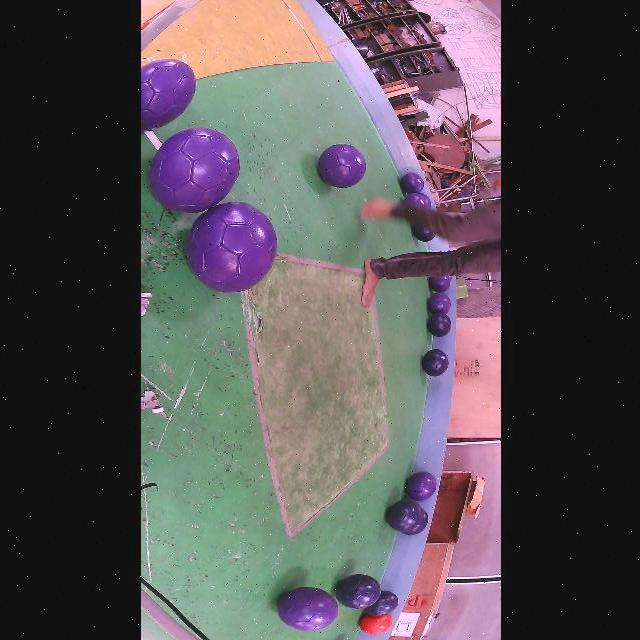B: (335, 574, 380, 609), (385, 499, 419, 531), (365, 590, 398, 616), (421, 349, 448, 376), (402, 509, 428, 535), (426, 312, 450, 338), (411, 225, 434, 241)
P: (185, 202, 276, 292), (148, 128, 239, 212), (140, 59, 195, 131), (276, 588, 338, 631), (318, 144, 365, 188), (404, 471, 435, 501), (427, 292, 450, 314), (400, 172, 422, 194), (401, 192, 426, 209), (428, 276, 450, 292), (421, 192, 430, 209)
R: (359, 614, 392, 635)
